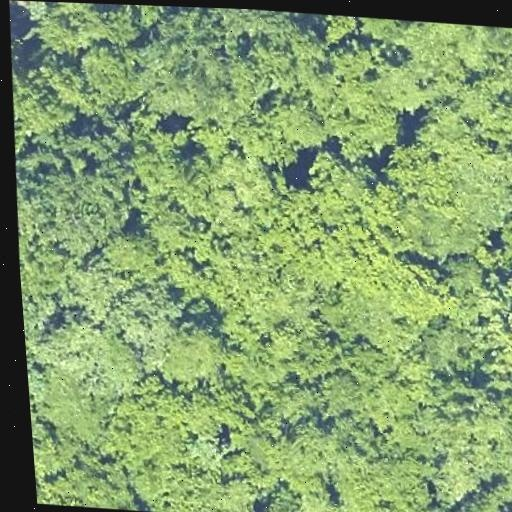tree-top: (115, 384, 278, 512), (386, 112, 512, 256), (39, 272, 172, 406), (255, 416, 420, 512), (200, 218, 322, 334), (300, 42, 415, 162), (133, 134, 264, 237), (322, 249, 459, 342), (128, 18, 241, 127), (25, 162, 132, 257), (421, 374, 512, 480), (290, 329, 386, 416), (134, 311, 231, 394), (291, 142, 383, 220), (395, 20, 502, 82), (75, 103, 161, 176), (8, 60, 81, 141), (34, 459, 145, 511), (76, 38, 149, 108), (29, 1, 114, 58), (476, 270, 512, 398), (416, 317, 486, 375), (96, 223, 168, 279), (207, 8, 299, 51), (218, 328, 280, 385), (352, 17, 418, 43), (491, 196, 512, 273), (104, 4, 179, 25), (313, 14, 359, 44), (9, 0, 46, 7), (512, 458, 512, 512)
